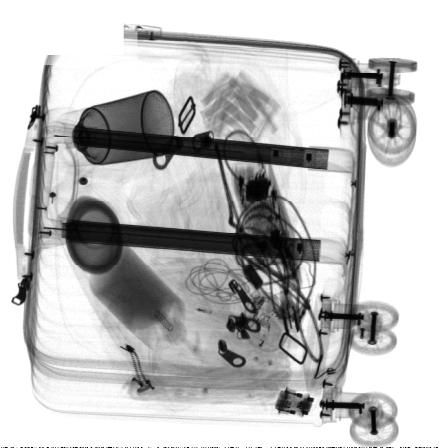Sprayer: (55, 91, 174, 168)
